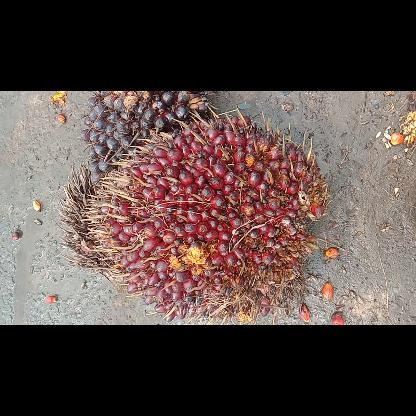Janjang kosong: (56, 166, 114, 272)
TBS masak: (80, 106, 328, 324)
TBS mentah: (81, 91, 217, 185)
